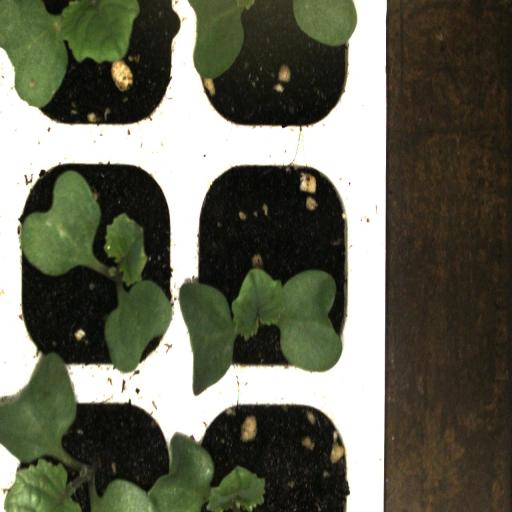Germinacao: (188, 140, 366, 392), (10, 138, 184, 383), (13, 0, 188, 130), (14, 382, 184, 512)
